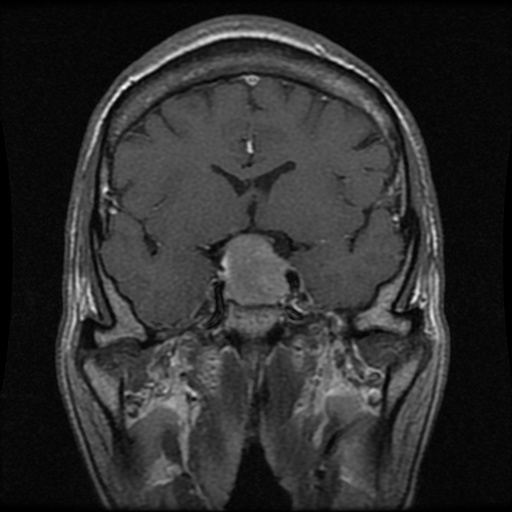pituitary: (226, 235, 287, 303)
